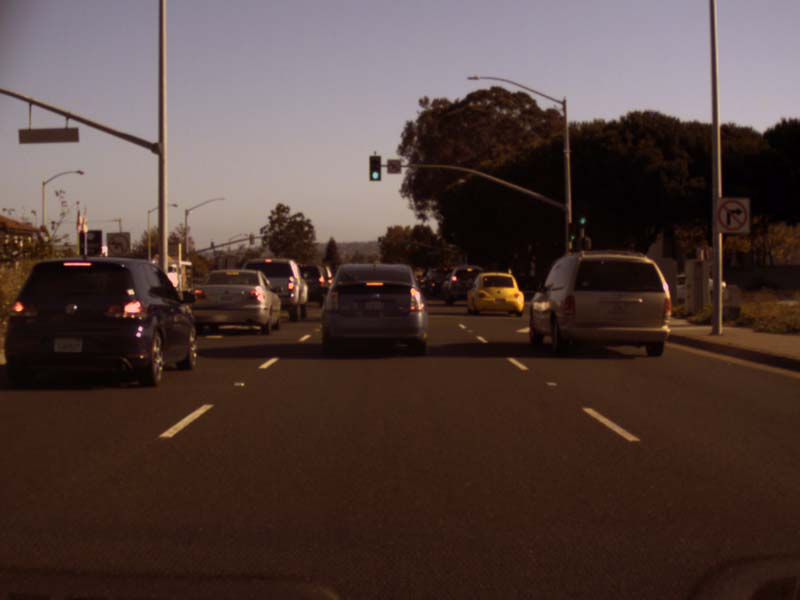Green: (369, 155, 381, 181), (576, 200, 588, 225)
